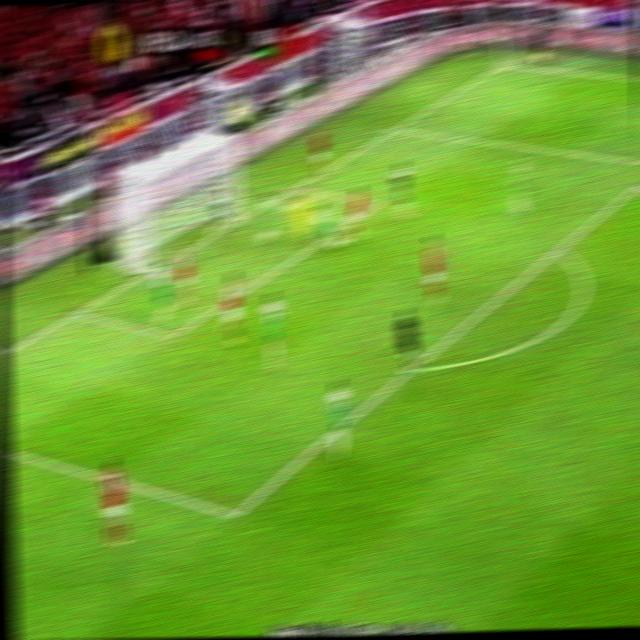bigarea_bottom_inner: (220, 499, 247, 530)
bigarea_top_outter: (384, 120, 403, 133)
bottom_arc_area_intersection: (401, 361, 419, 375)
corner: (493, 59, 512, 69)
smallarea_bottom_inner: (160, 322, 182, 346)
smallarea_bottom_outter: (64, 302, 86, 322)
smallarea_top_inner: (368, 196, 384, 209)
smallarea_top_outter: (282, 181, 301, 194)
top_arc_area_intersection: (550, 241, 566, 254)
